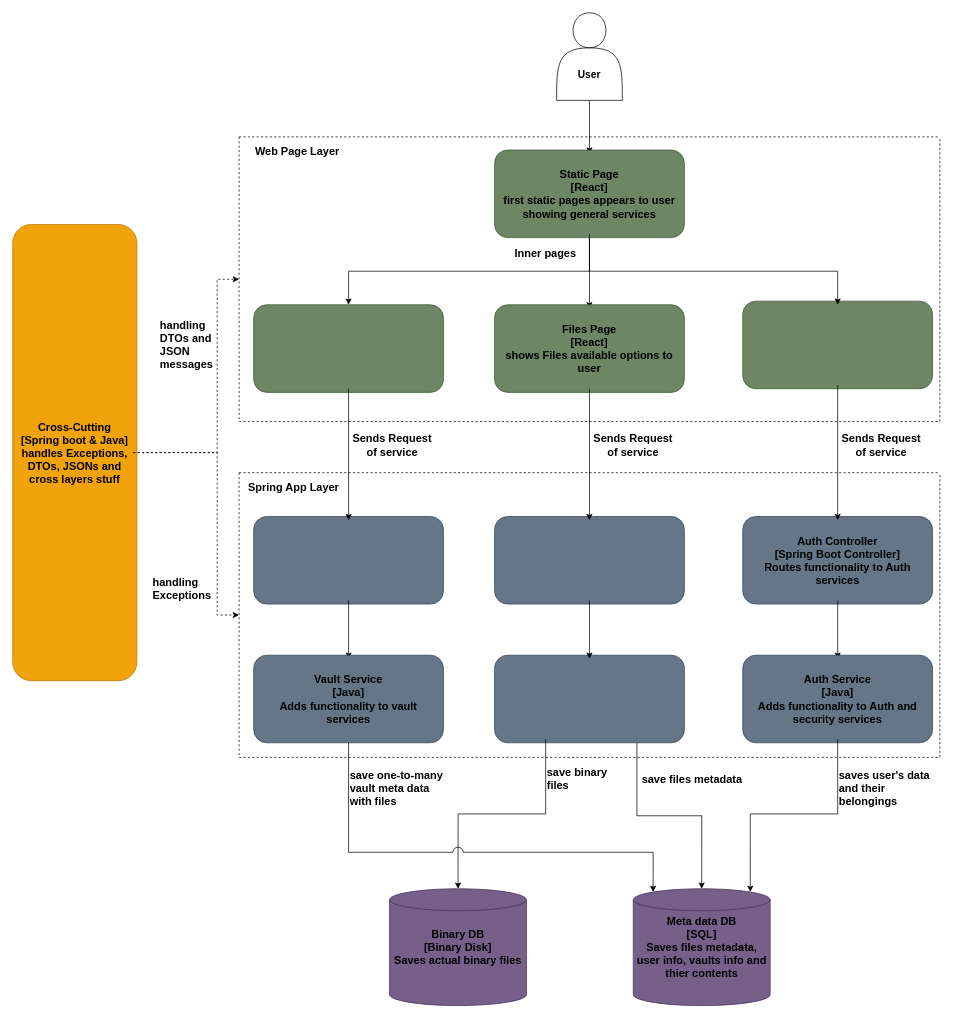
The diagram is 953 pixels wide and 1018 high, and some of its shapes have lost their labels. Each missing label, with the centre of its shape:
Auth Page [React] signup and login page: point (837, 344)
Files Controller [Spring Boot Controller] Routes functionality to files services: point (589, 560)
Files Service [Java] Adds functionality to files services: point (589, 698)
Vault Controller [Spring Boot Controller] Routes functionality to vault services: point (348, 560)
Vault Page [React] shows vault available options to user: point (348, 348)
